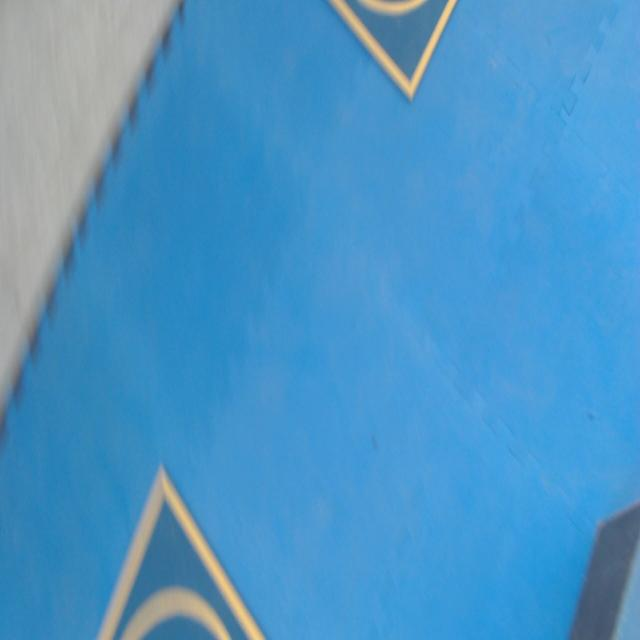base_pouso: (94, 461, 270, 639), (324, 0, 461, 105)
